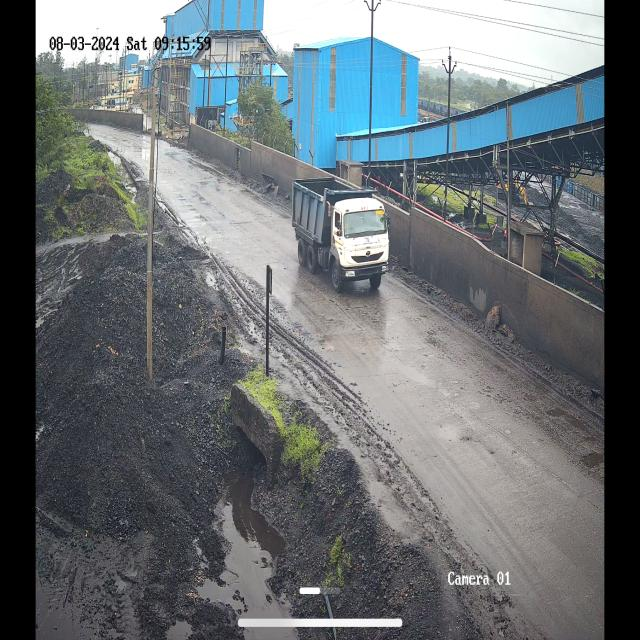dump_truck: (290, 182, 389, 278)
